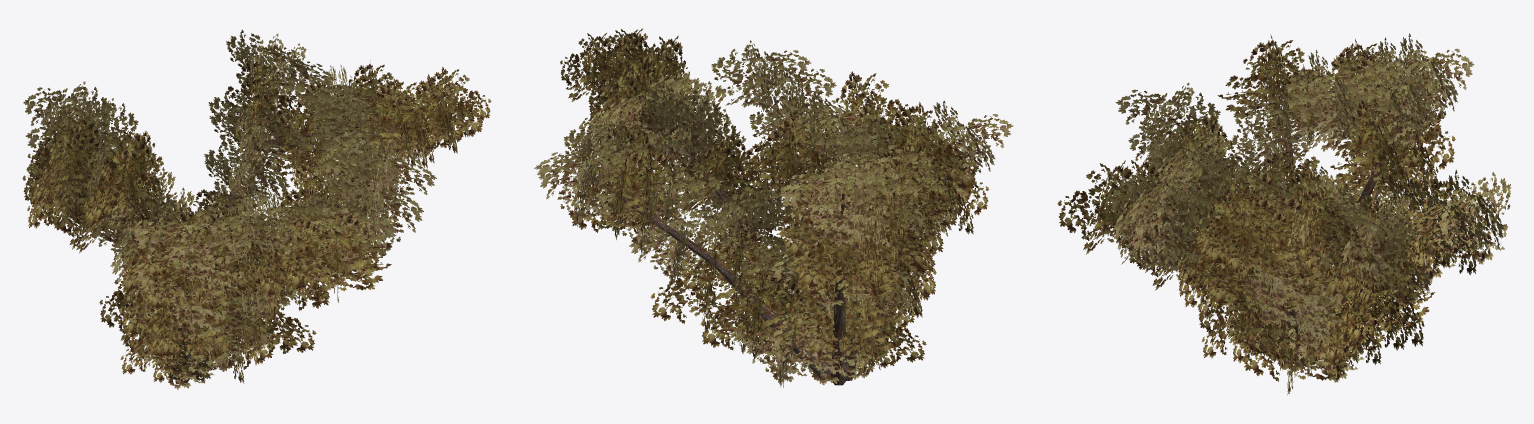
File: bush_3d_05_golden_beige_lod0.glb
The picture shows the model from 3 angles, left to right: view 1: azimuth 30°, elevation 25°; view 2: azimuth 150°, elevation 25°; view 3: azimuth 270°, elevation 25°; orthographic projection. The views are drawn at different scales.
Parts seen in each view (by area): view 1: foliage_cards, wood_geometry; view 2: foliage_cards, wood_geometry; view 3: foliage_cards, wood_geometry.
Boxes of the visible parts, x1,y1,x2,y2 form: foliage_cards: [22, 29, 491, 389]; wood_geometry: [64, 67, 443, 382]; foliage_cards: [534, 28, 1013, 387]; wood_geometry: [586, 51, 953, 385]; foliage_cards: [1057, 33, 1511, 394]; wood_geometry: [1120, 69, 1458, 366].
Bounding box in the file's own units: 2.84 × 1.72 × 2.5.
Materials: 2 (2 with a texture image).
